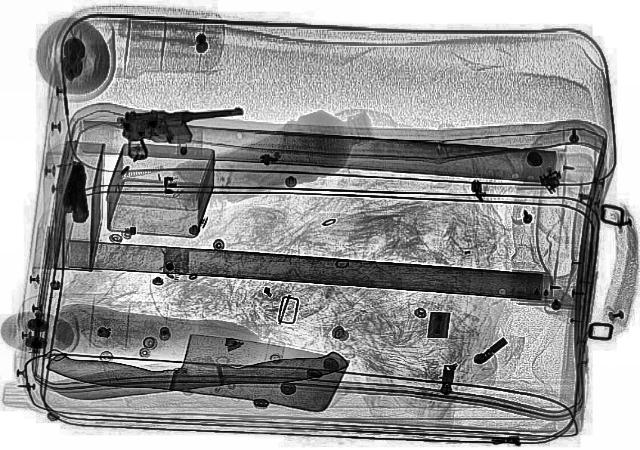Gun: (114, 104, 248, 160), (56, 160, 95, 222)
Knife: (41, 316, 352, 412), (39, 346, 348, 402)
